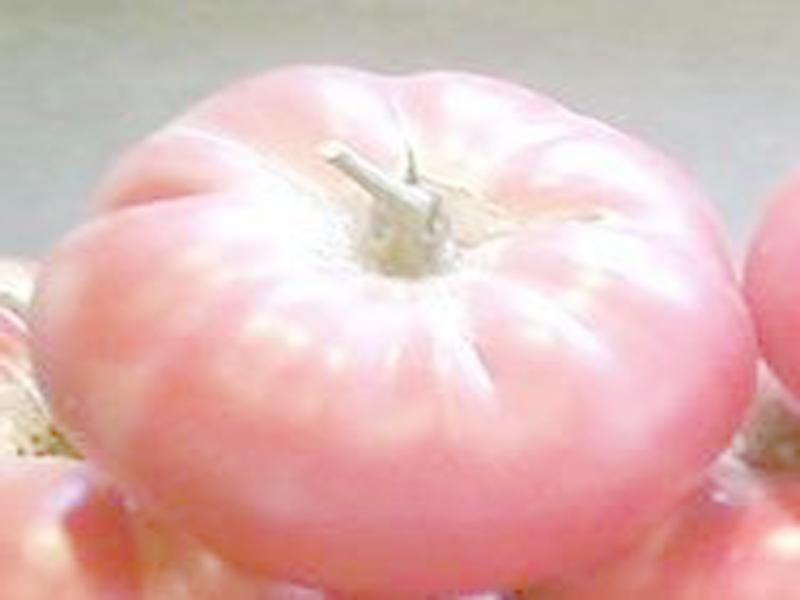Tomato: (25, 67, 756, 596)
